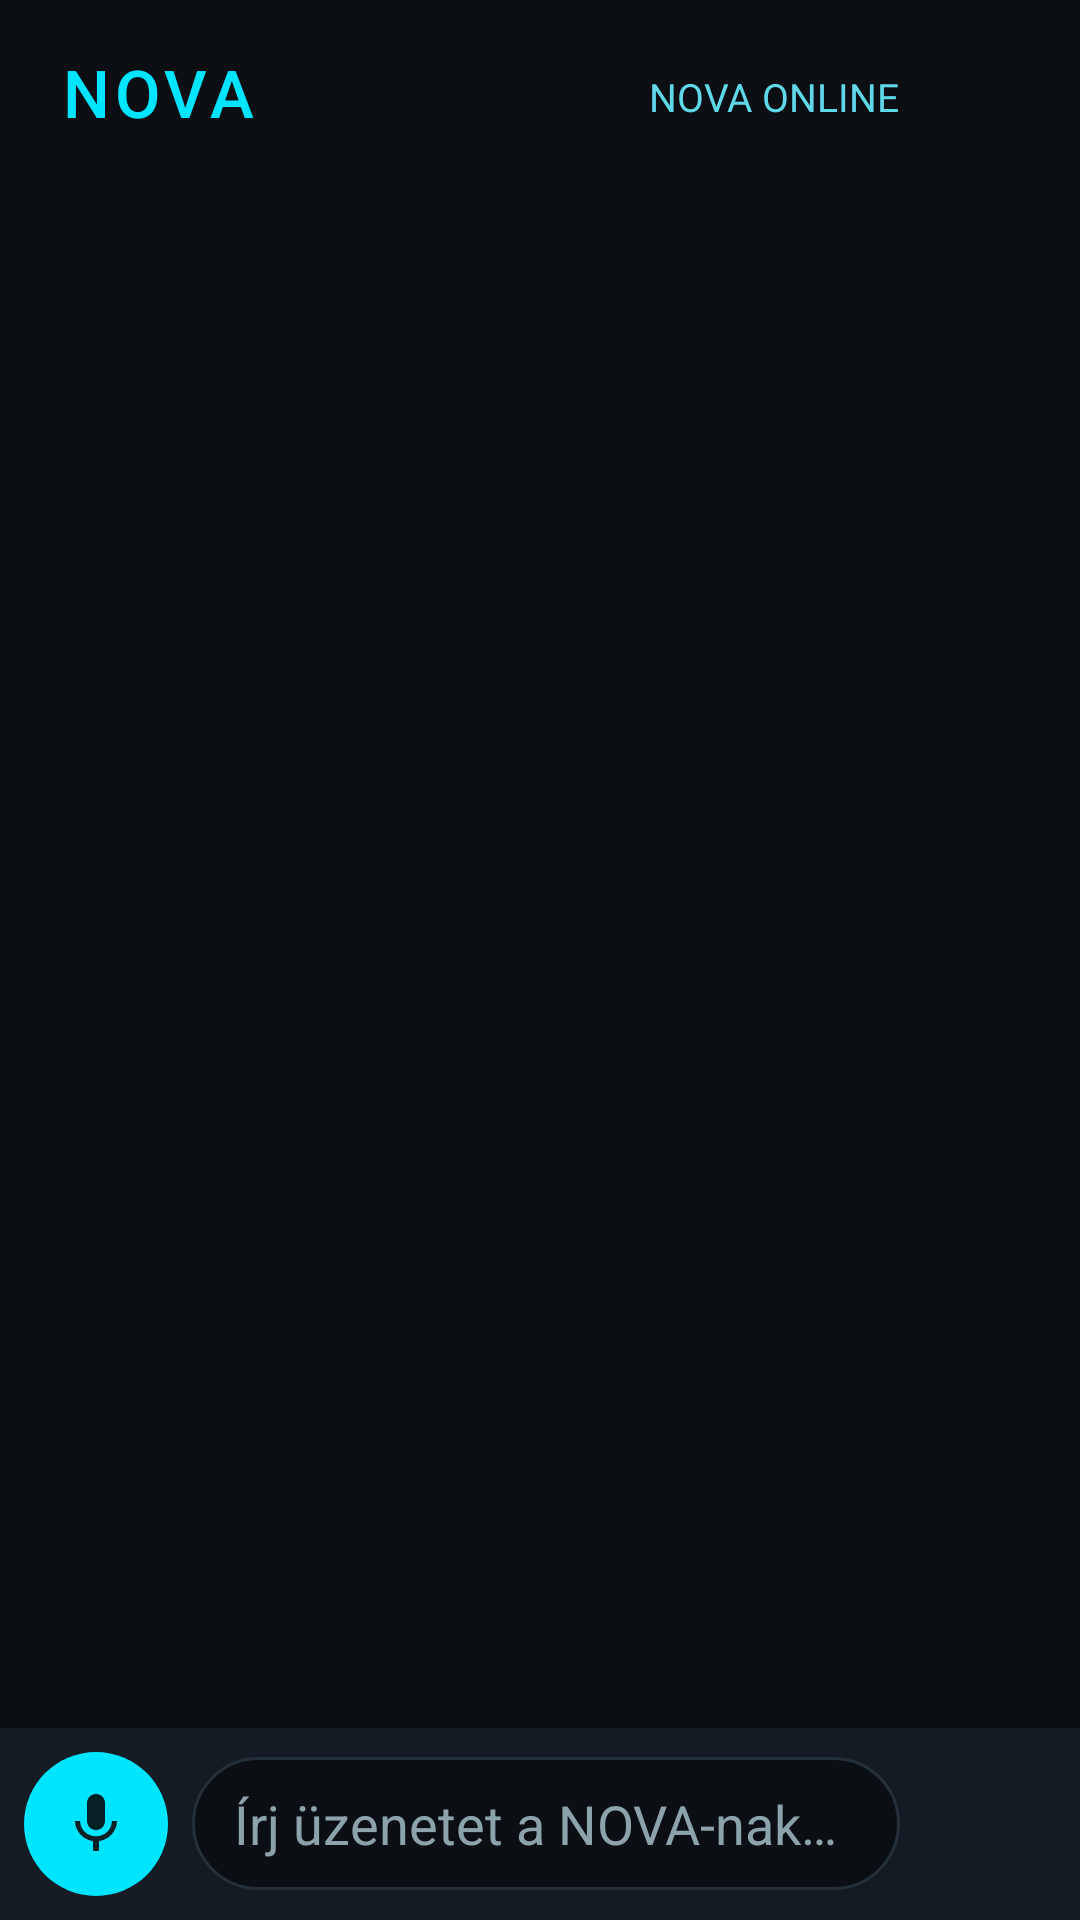

Named icons in this screenshot (1080×1920) and their centers, (x=x, y=y):
Mikrofon: (x=96, y=1824)
